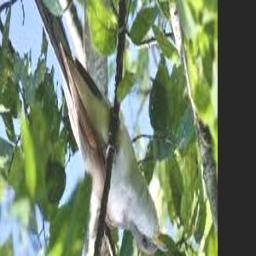Cuckoo: (25, 0, 168, 256)
